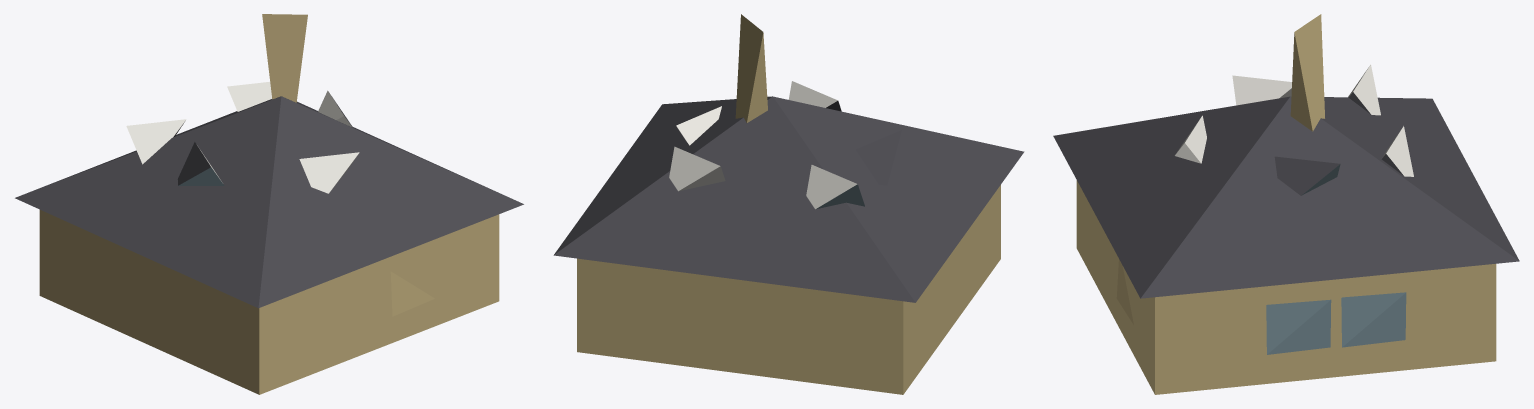
Rendered from museum-amsterdam-noord.lod2.glb.
3 views of the same model, side by side, from view 1: azimuth 30°, elevation 25°; view 2: azimuth 150°, elevation 25°; view 3: azimuth 270°, elevation 25° (orthographic). The views are drawn at different scales.
Visible parts, largest first — view 1: lod2; view 2: lod2; view 3: lod2.
Part boxes in pixels (bbox=[...]): lod2: bbox=[15, 14, 523, 394]; lod2: bbox=[553, 14, 1024, 394]; lod2: bbox=[1053, 14, 1519, 394].
Bounding box in the file's own units: 13.34 × 9.18 × 13.15.
